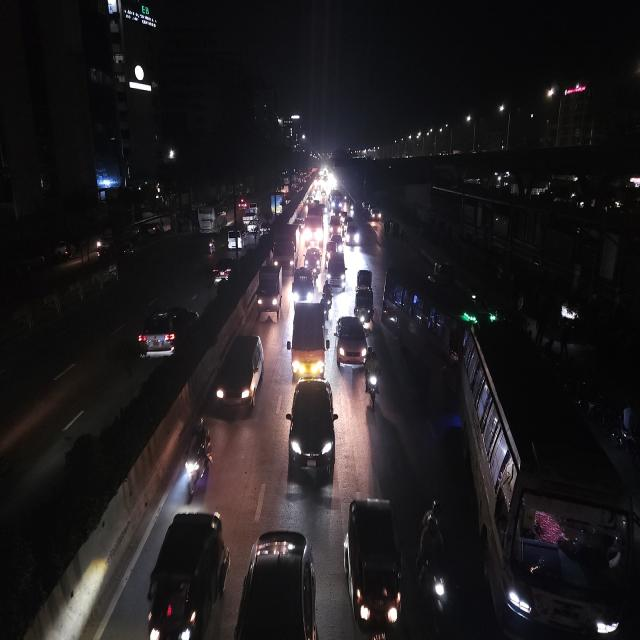bus: (462, 320, 636, 640), (385, 285, 462, 382), (196, 201, 228, 234), (303, 200, 325, 247), (329, 187, 345, 214)
car: (232, 525, 321, 640), (285, 374, 339, 492), (213, 330, 265, 422), (136, 297, 198, 366), (289, 298, 329, 381), (335, 312, 369, 372), (291, 264, 315, 304), (326, 248, 347, 292), (211, 255, 235, 287), (327, 226, 345, 256), (345, 215, 361, 248), (304, 245, 322, 272), (226, 225, 244, 252), (328, 211, 344, 238), (242, 212, 258, 234), (369, 206, 381, 223)
cng: (144, 505, 228, 640), (343, 493, 403, 640), (354, 287, 374, 332), (430, 258, 456, 285)
motorcycle: (416, 497, 454, 637), (180, 414, 214, 498), (364, 347, 382, 411), (322, 280, 334, 316), (205, 235, 217, 257)
truck: (289, 299, 329, 381), (255, 259, 283, 324), (268, 225, 300, 275), (270, 192, 284, 216)
